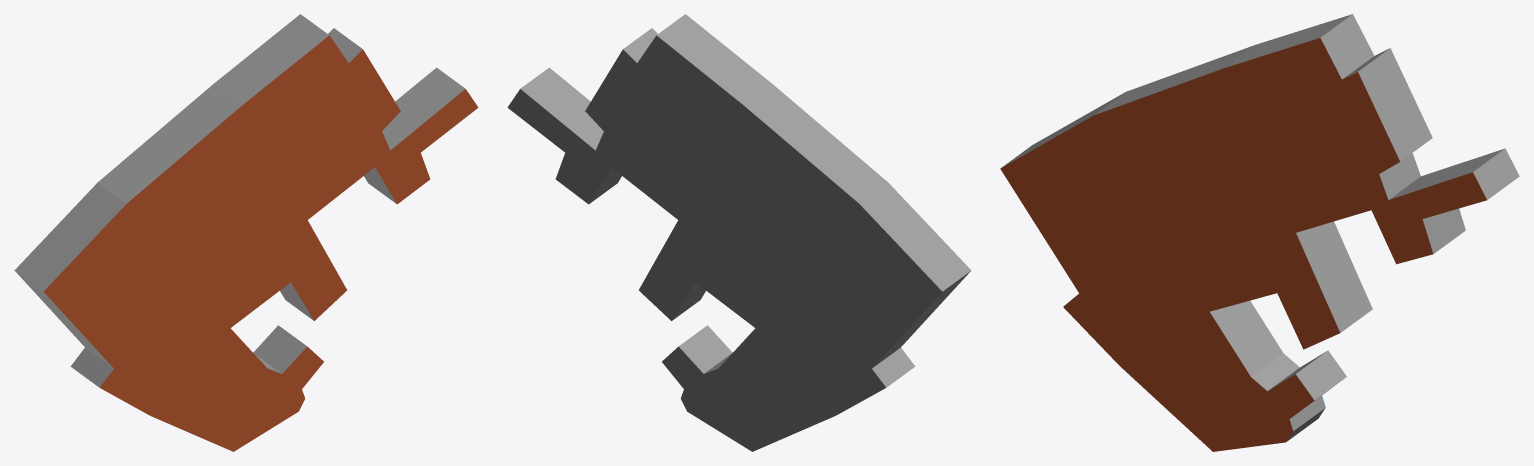
Rendered from construction_1431_assumed_A_Casa_h6m.obj.
3 views of the same model, side by side, from view 1: azimuth 30°, elevation 25°; view 2: azimuth 150°, elevation 25°; view 3: azimuth 330°, elevation 25° (orthographic). The views are drawn at different scales.
Visible parts, largest first — view 1: construction_1431_assumed_A_Casa; view 2: construction_1431_assumed_A_Casa; view 3: construction_1431_assumed_A_Casa.
Boxes of the visible parts, box(x1,y1,x2,y2) form: construction_1431_assumed_A_Casa: box(14, 14, 478, 451); construction_1431_assumed_A_Casa: box(507, 14, 971, 451); construction_1431_assumed_A_Casa: box(1000, 14, 1519, 451).
Bounding box in the file's own units: 51.86 × 44.8 × 6.
